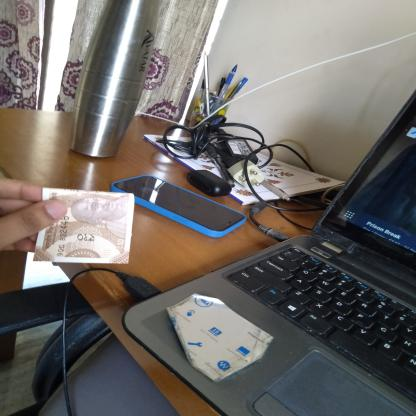New10Front: (44, 190, 138, 256)
